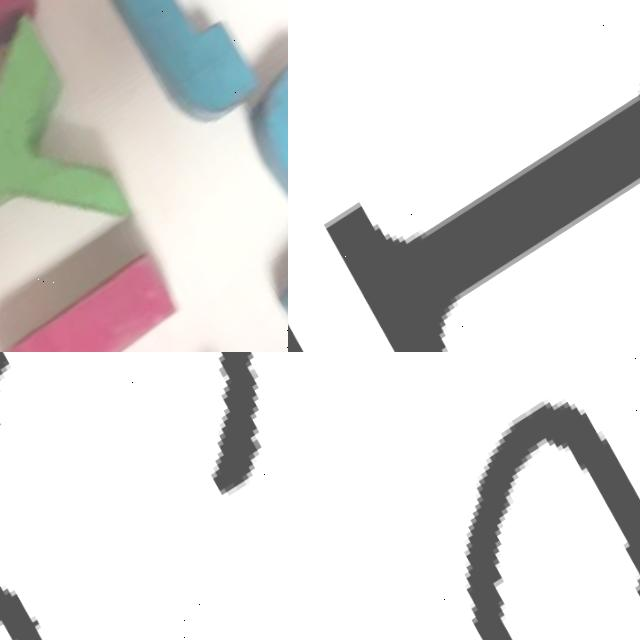2: (0, 352, 288, 640)
5: (303, 352, 640, 640)
J: (66, 0, 288, 141)
P: (161, 20, 288, 352)
R: (288, 0, 640, 352)
U: (0, 248, 288, 352)
Y: (0, 7, 149, 336)
